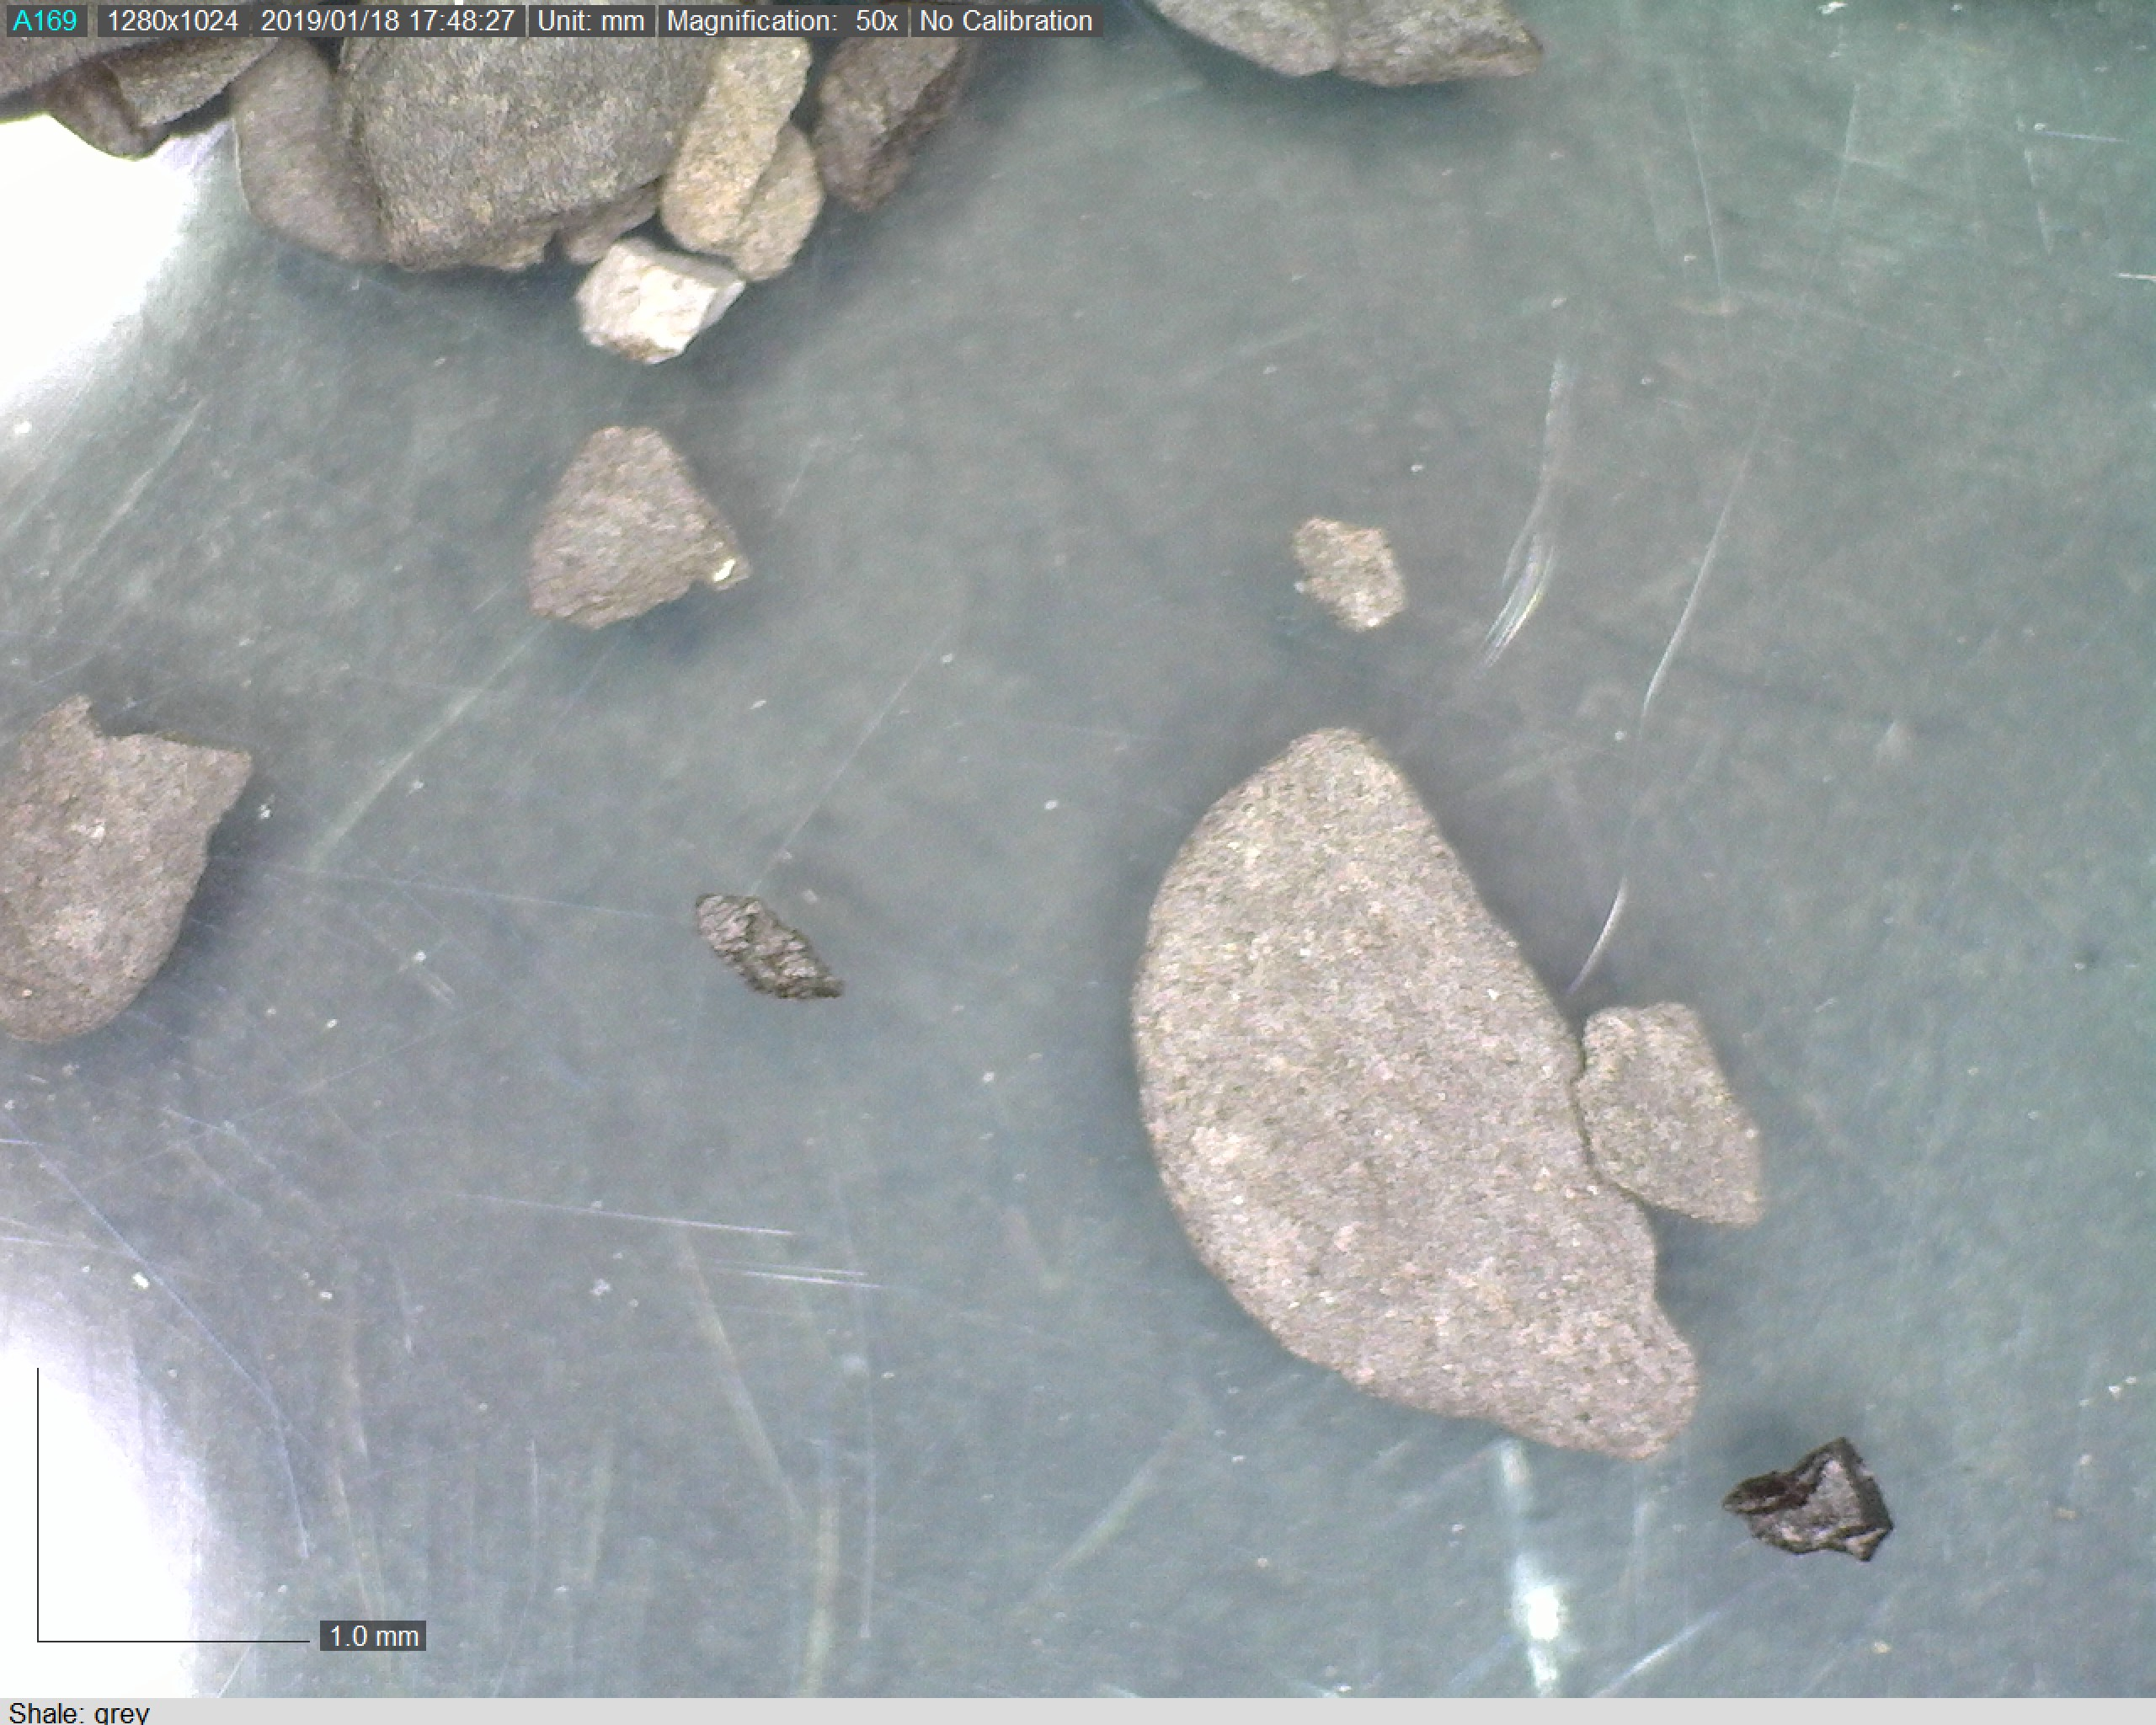Shale: (1121, 709, 1771, 1472)
